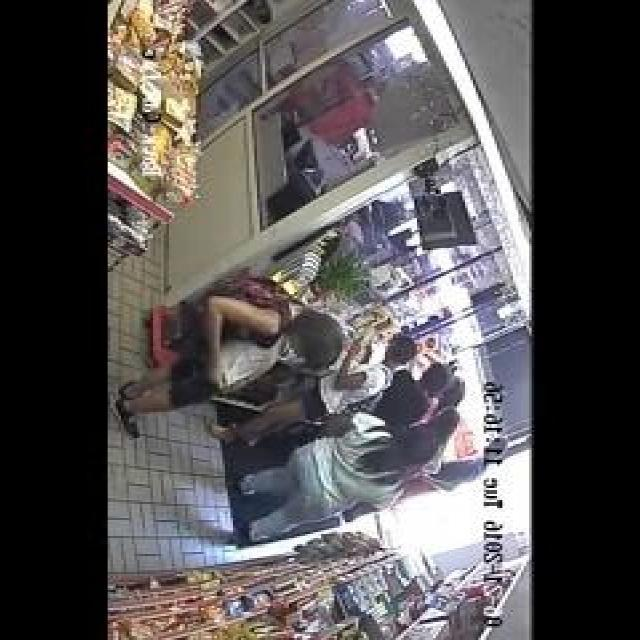Shoplifting: (109, 262, 359, 420)
